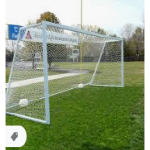goals: (6, 20, 124, 124)
